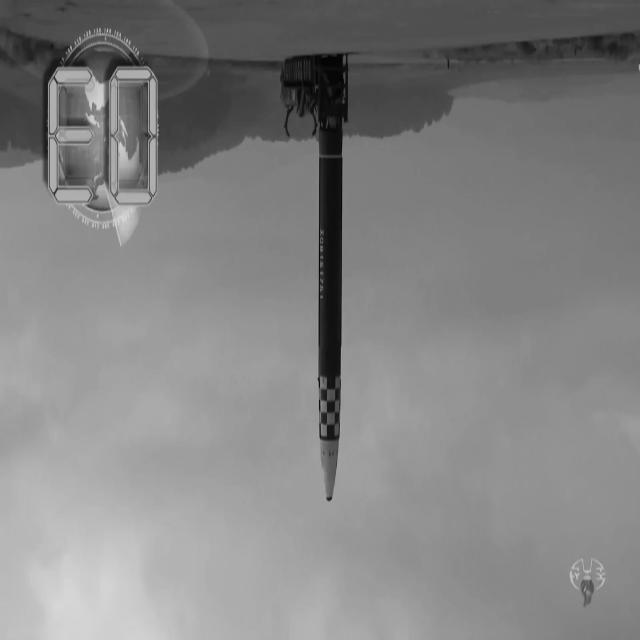missile: (313, 99, 344, 512)
